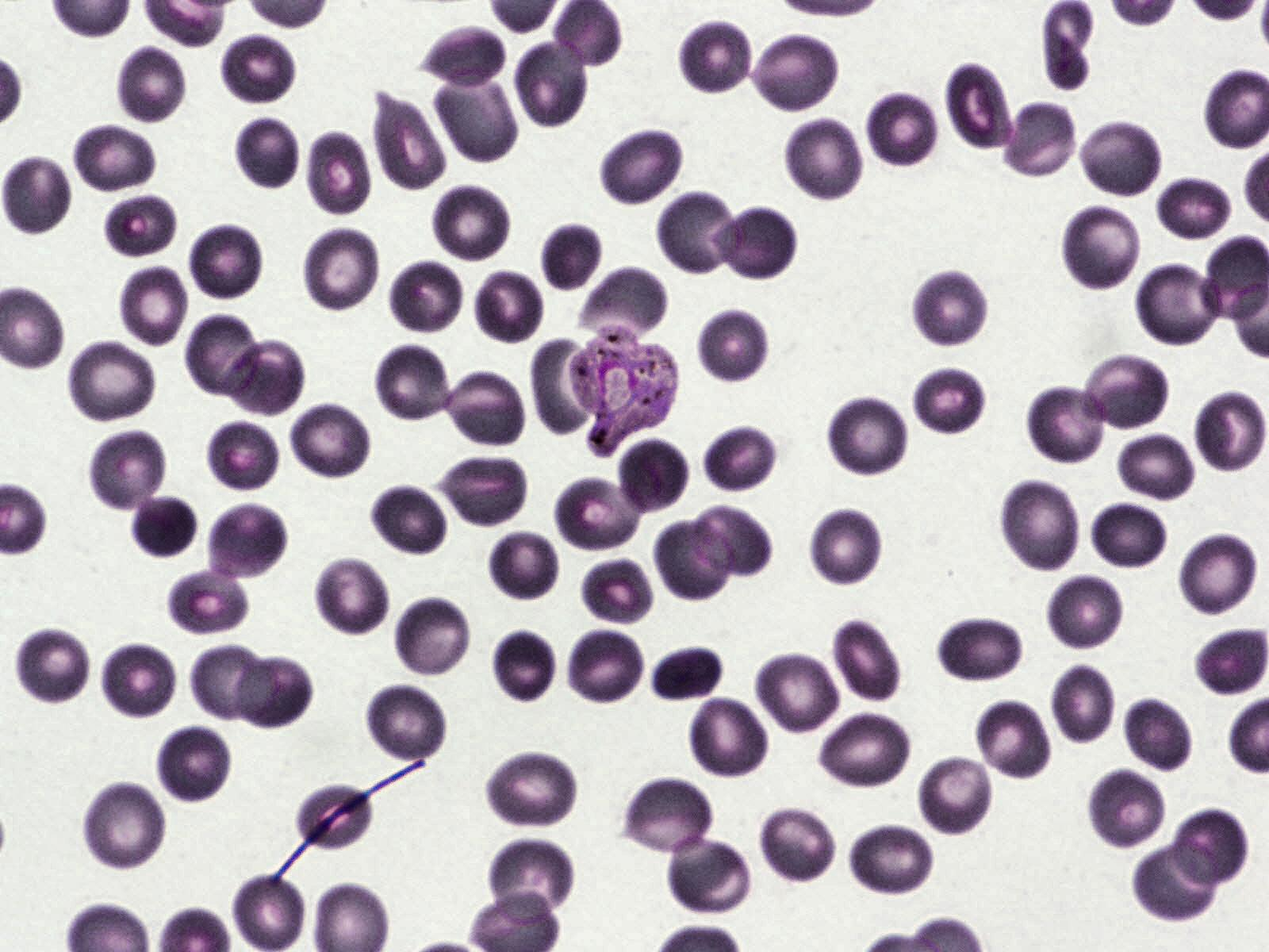Infected: (574, 326, 675, 455)
Uninfected: (429, 66, 519, 164), (997, 478, 1083, 575), (1127, 833, 1218, 922), (486, 836, 574, 927), (66, 339, 157, 426), (81, 781, 167, 873), (368, 94, 447, 194), (753, 651, 841, 738), (750, 33, 841, 116), (818, 711, 911, 792), (1078, 354, 1171, 435), (485, 750, 577, 831), (1137, 259, 1221, 347), (1159, 808, 1248, 891), (1060, 202, 1141, 293), (513, 36, 591, 130), (657, 189, 742, 275), (665, 833, 750, 918), (205, 501, 293, 582), (623, 778, 712, 858), (363, 682, 445, 768), (784, 116, 866, 202), (87, 428, 167, 514), (301, 225, 379, 313), (827, 395, 909, 478), (1086, 768, 1167, 852), (187, 643, 275, 720), (430, 182, 512, 264), (1028, 382, 1110, 464), (688, 696, 768, 780), (709, 205, 796, 282), (600, 128, 683, 208), (1051, 570, 1131, 653), (648, 522, 732, 601), (440, 370, 525, 448), (290, 401, 371, 482), (1179, 532, 1256, 617), (439, 455, 527, 529), (1079, 119, 1161, 198), (312, 555, 391, 637), (917, 755, 995, 838), (219, 340, 303, 417), (945, 63, 1018, 151), (370, 344, 450, 424), (849, 823, 933, 899), (1194, 390, 1268, 476), (974, 700, 1051, 782), (182, 315, 259, 397), (829, 620, 903, 705), (0, 152, 71, 240), (98, 641, 177, 720), (1000, 102, 1079, 181), (74, 121, 155, 198), (394, 596, 470, 678), (301, 132, 374, 217), (117, 263, 190, 347), (187, 221, 263, 301), (113, 44, 188, 125), (937, 616, 1025, 685), (556, 480, 640, 552), (13, 627, 90, 705), (220, 28, 298, 105), (578, 268, 669, 334), (759, 805, 835, 884), (912, 270, 988, 349), (155, 724, 230, 804), (526, 340, 588, 436), (565, 628, 642, 705), (679, 19, 755, 96), (385, 260, 462, 336), (484, 528, 560, 605), (615, 437, 689, 516), (168, 563, 247, 637), (865, 91, 938, 171), (371, 484, 448, 559), (231, 874, 306, 951), (1152, 173, 1230, 247), (1045, 664, 1118, 743), (910, 364, 986, 439), (1118, 432, 1194, 506), (695, 308, 769, 384), (205, 417, 278, 494), (1118, 697, 1191, 774), (489, 629, 562, 706), (471, 268, 543, 346), (229, 115, 301, 193), (802, 512, 880, 584), (575, 554, 653, 626), (1090, 501, 1167, 573), (689, 506, 769, 575), (232, 657, 310, 727), (293, 788, 374, 855), (702, 424, 776, 497), (533, 221, 604, 297), (104, 191, 178, 263), (422, 29, 506, 92), (129, 489, 200, 563), (1041, 2, 1097, 93), (1191, 628, 1268, 693), (650, 646, 722, 704)
